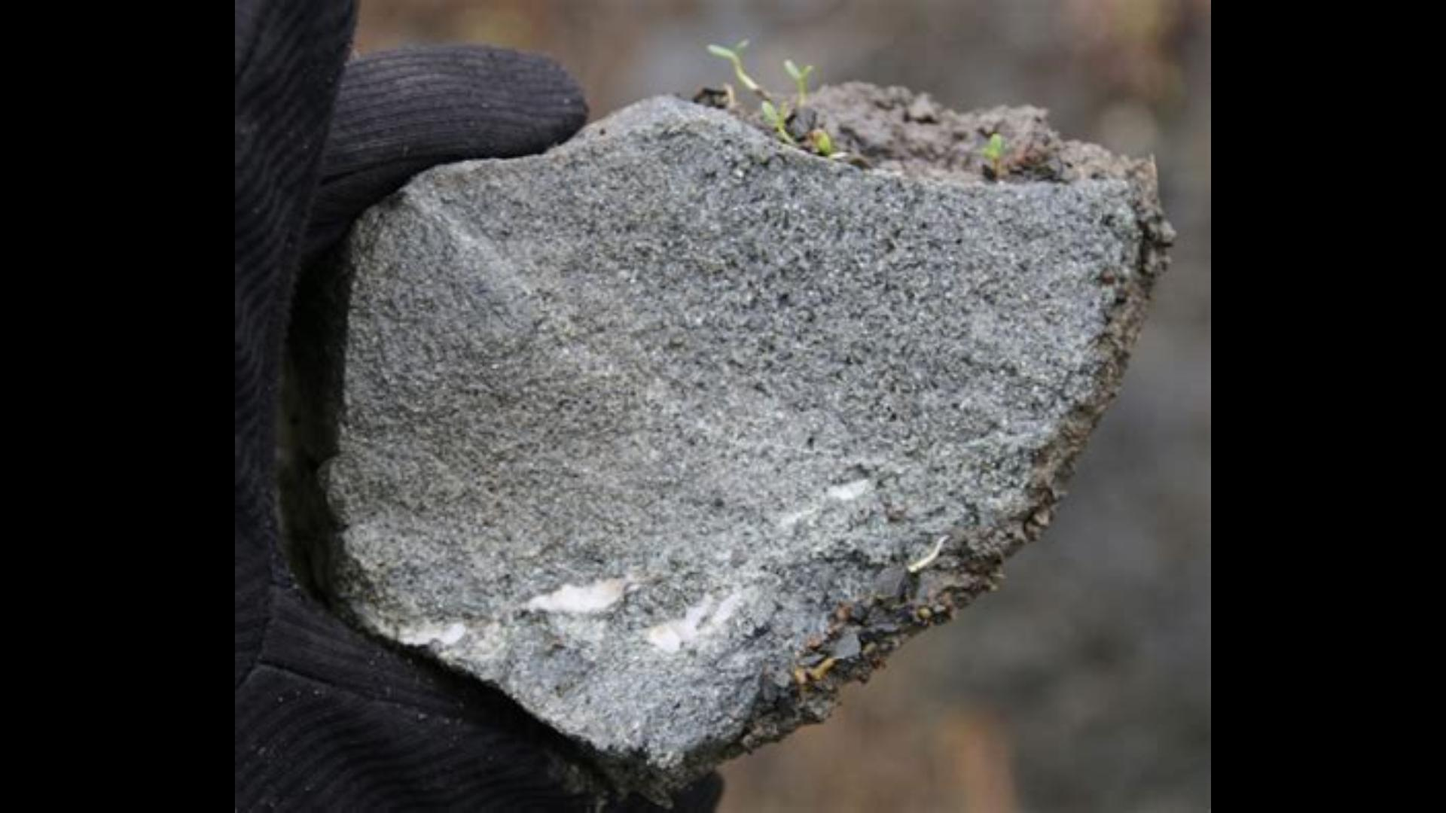rock: (297, 89, 1164, 794)
